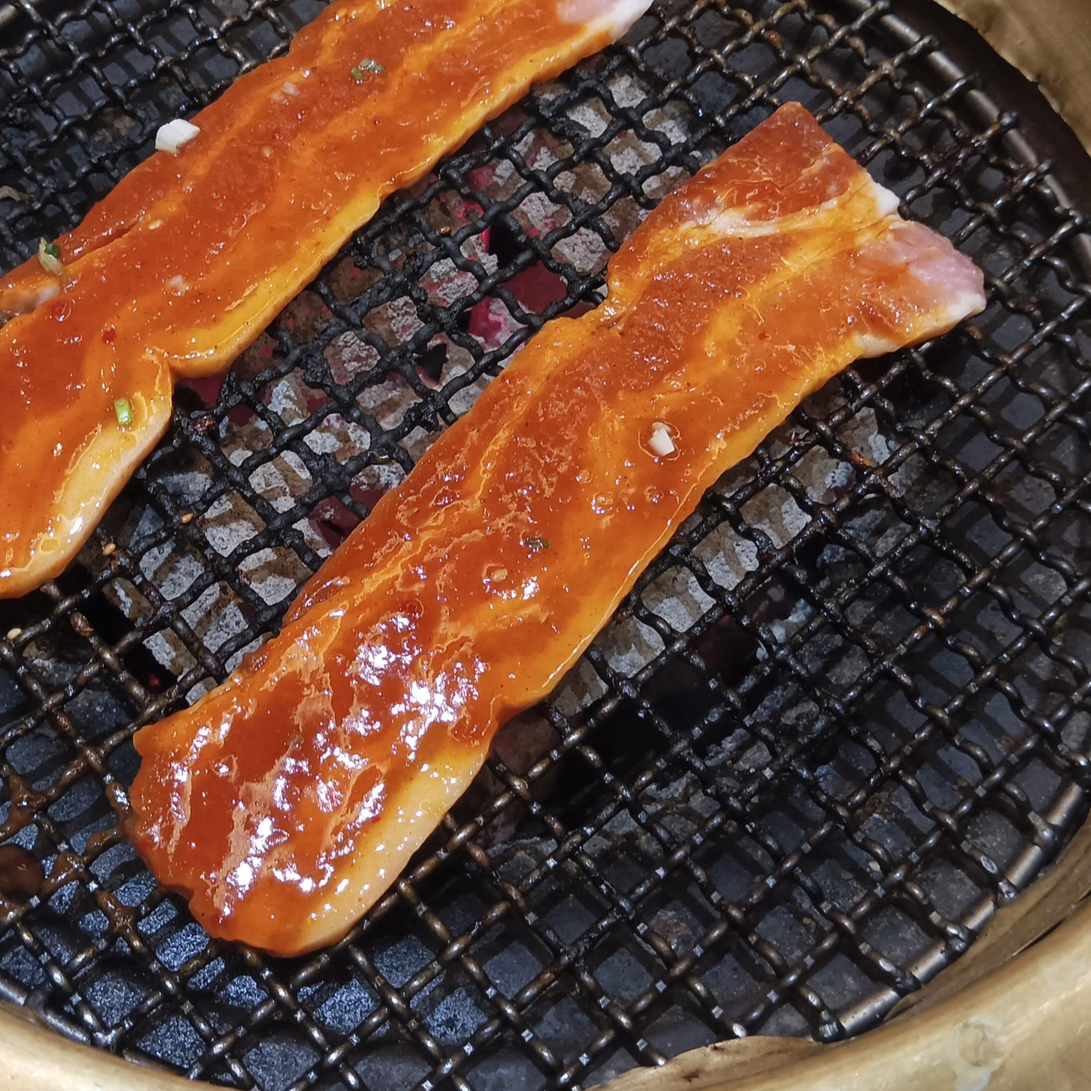Undercooked: (131, 103, 985, 953), (0, 0, 644, 595)
